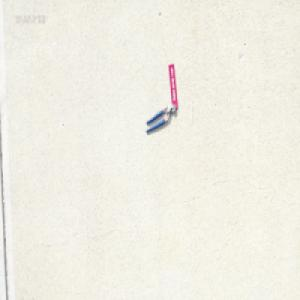Label: (167, 62, 178, 109)
Pliers: (144, 103, 175, 133)
